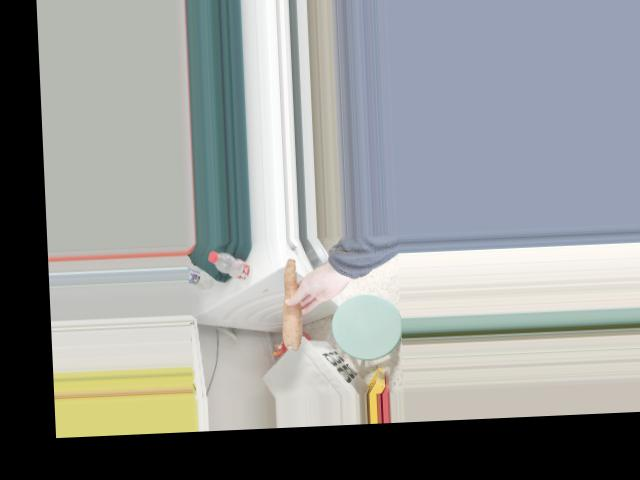sweet_potato: (277, 256, 310, 348)
